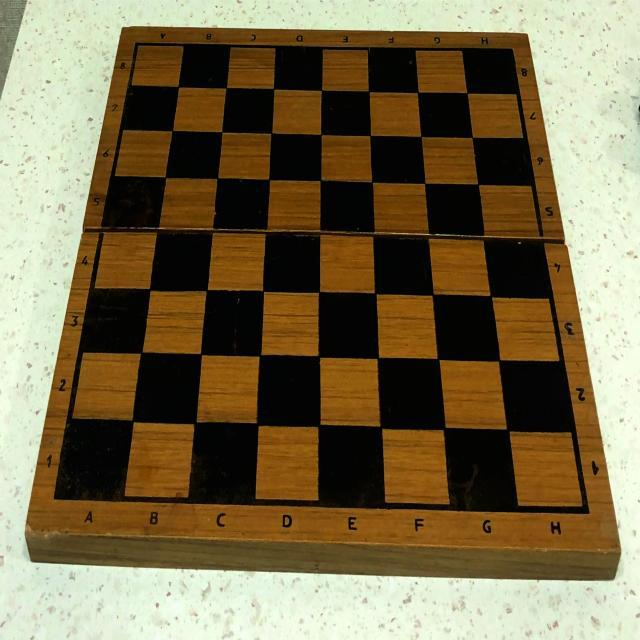chess-table-corners: (576, 497, 594, 523), (46, 490, 64, 506), (132, 38, 145, 54), (508, 44, 518, 58)
